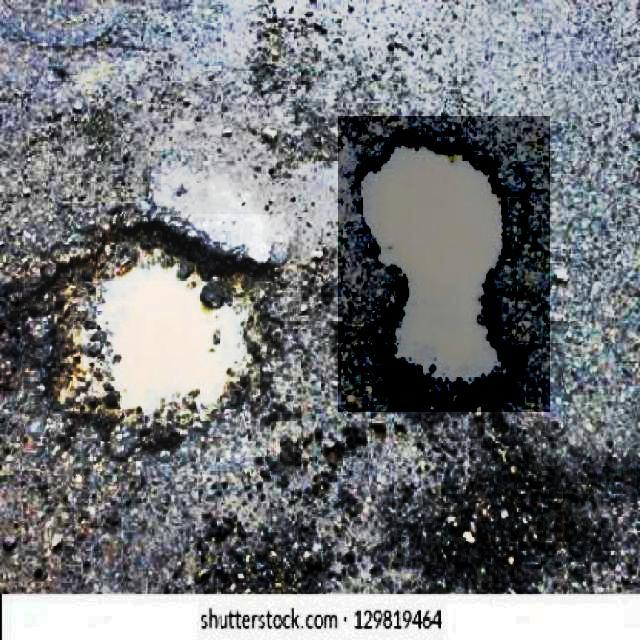pothole: (19, 214, 296, 476), (338, 116, 550, 412)
